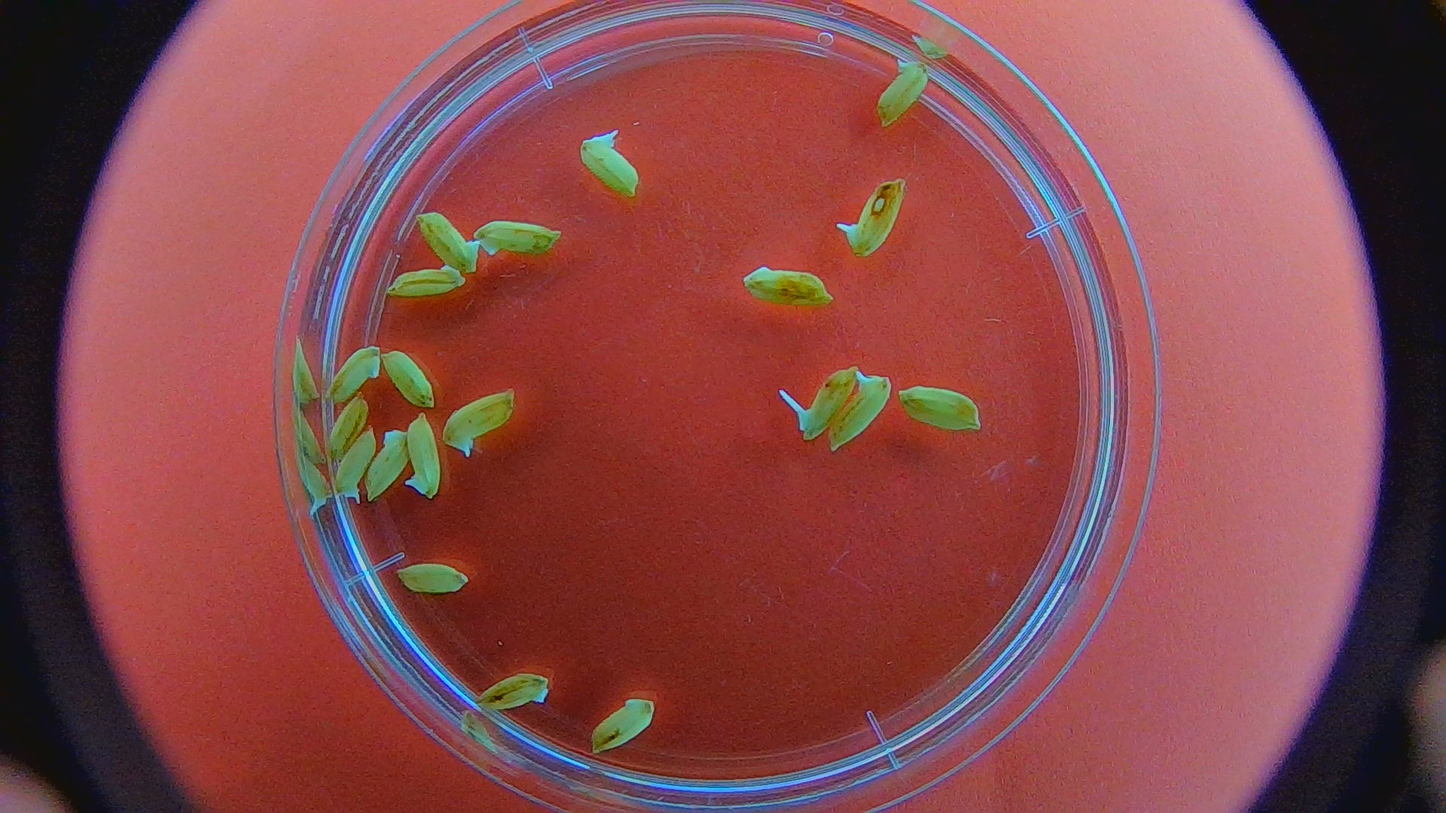no: (874, 53, 935, 142), (738, 265, 837, 316), (419, 202, 481, 279), (382, 340, 443, 415), (474, 212, 562, 262), (899, 385, 984, 436), (366, 420, 413, 509), (323, 340, 383, 409), (401, 414, 447, 503), (585, 696, 655, 754), (326, 388, 374, 463), (471, 671, 552, 714), (375, 264, 466, 302), (395, 559, 465, 595)
yes: (830, 376, 889, 455), (580, 134, 645, 202), (850, 178, 904, 258), (801, 367, 862, 434), (441, 388, 511, 446), (334, 425, 377, 507)
